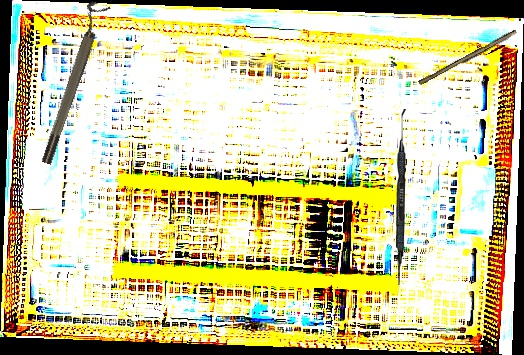Fixation Ring: (31, 0, 112, 166)
Scalpel Handle: (417, 27, 519, 89)
Spatula Surgical: (396, 109, 406, 285)
